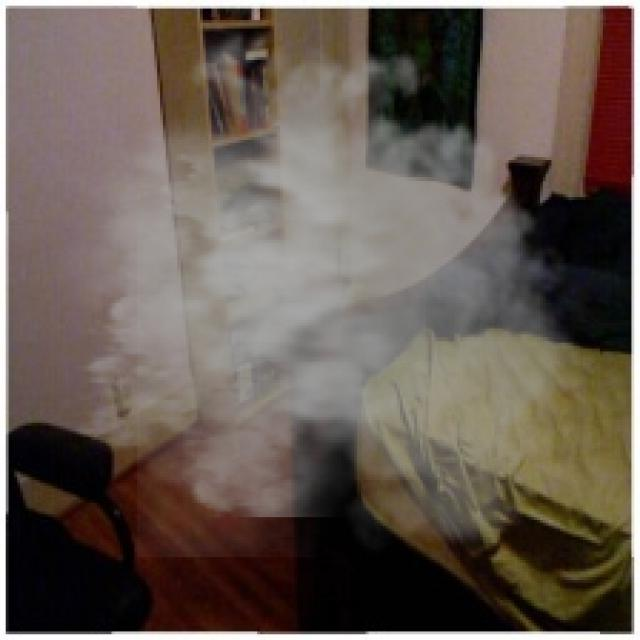smoke: (40, 14, 600, 557)
